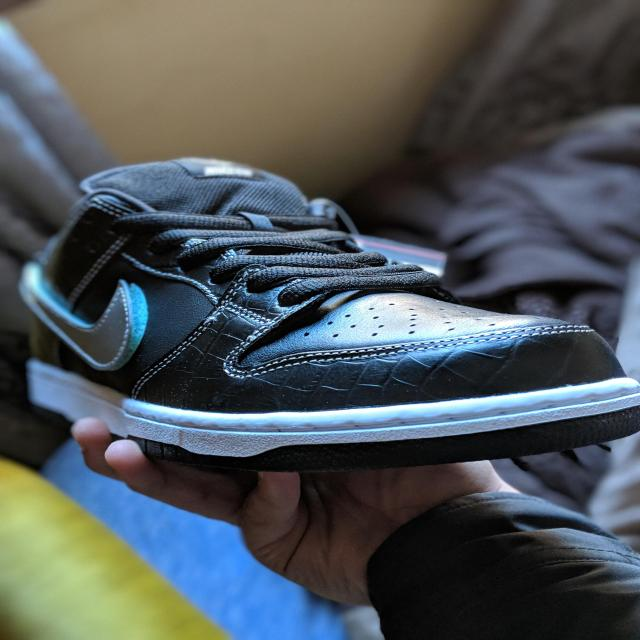shoe: (9, 146, 640, 478)
